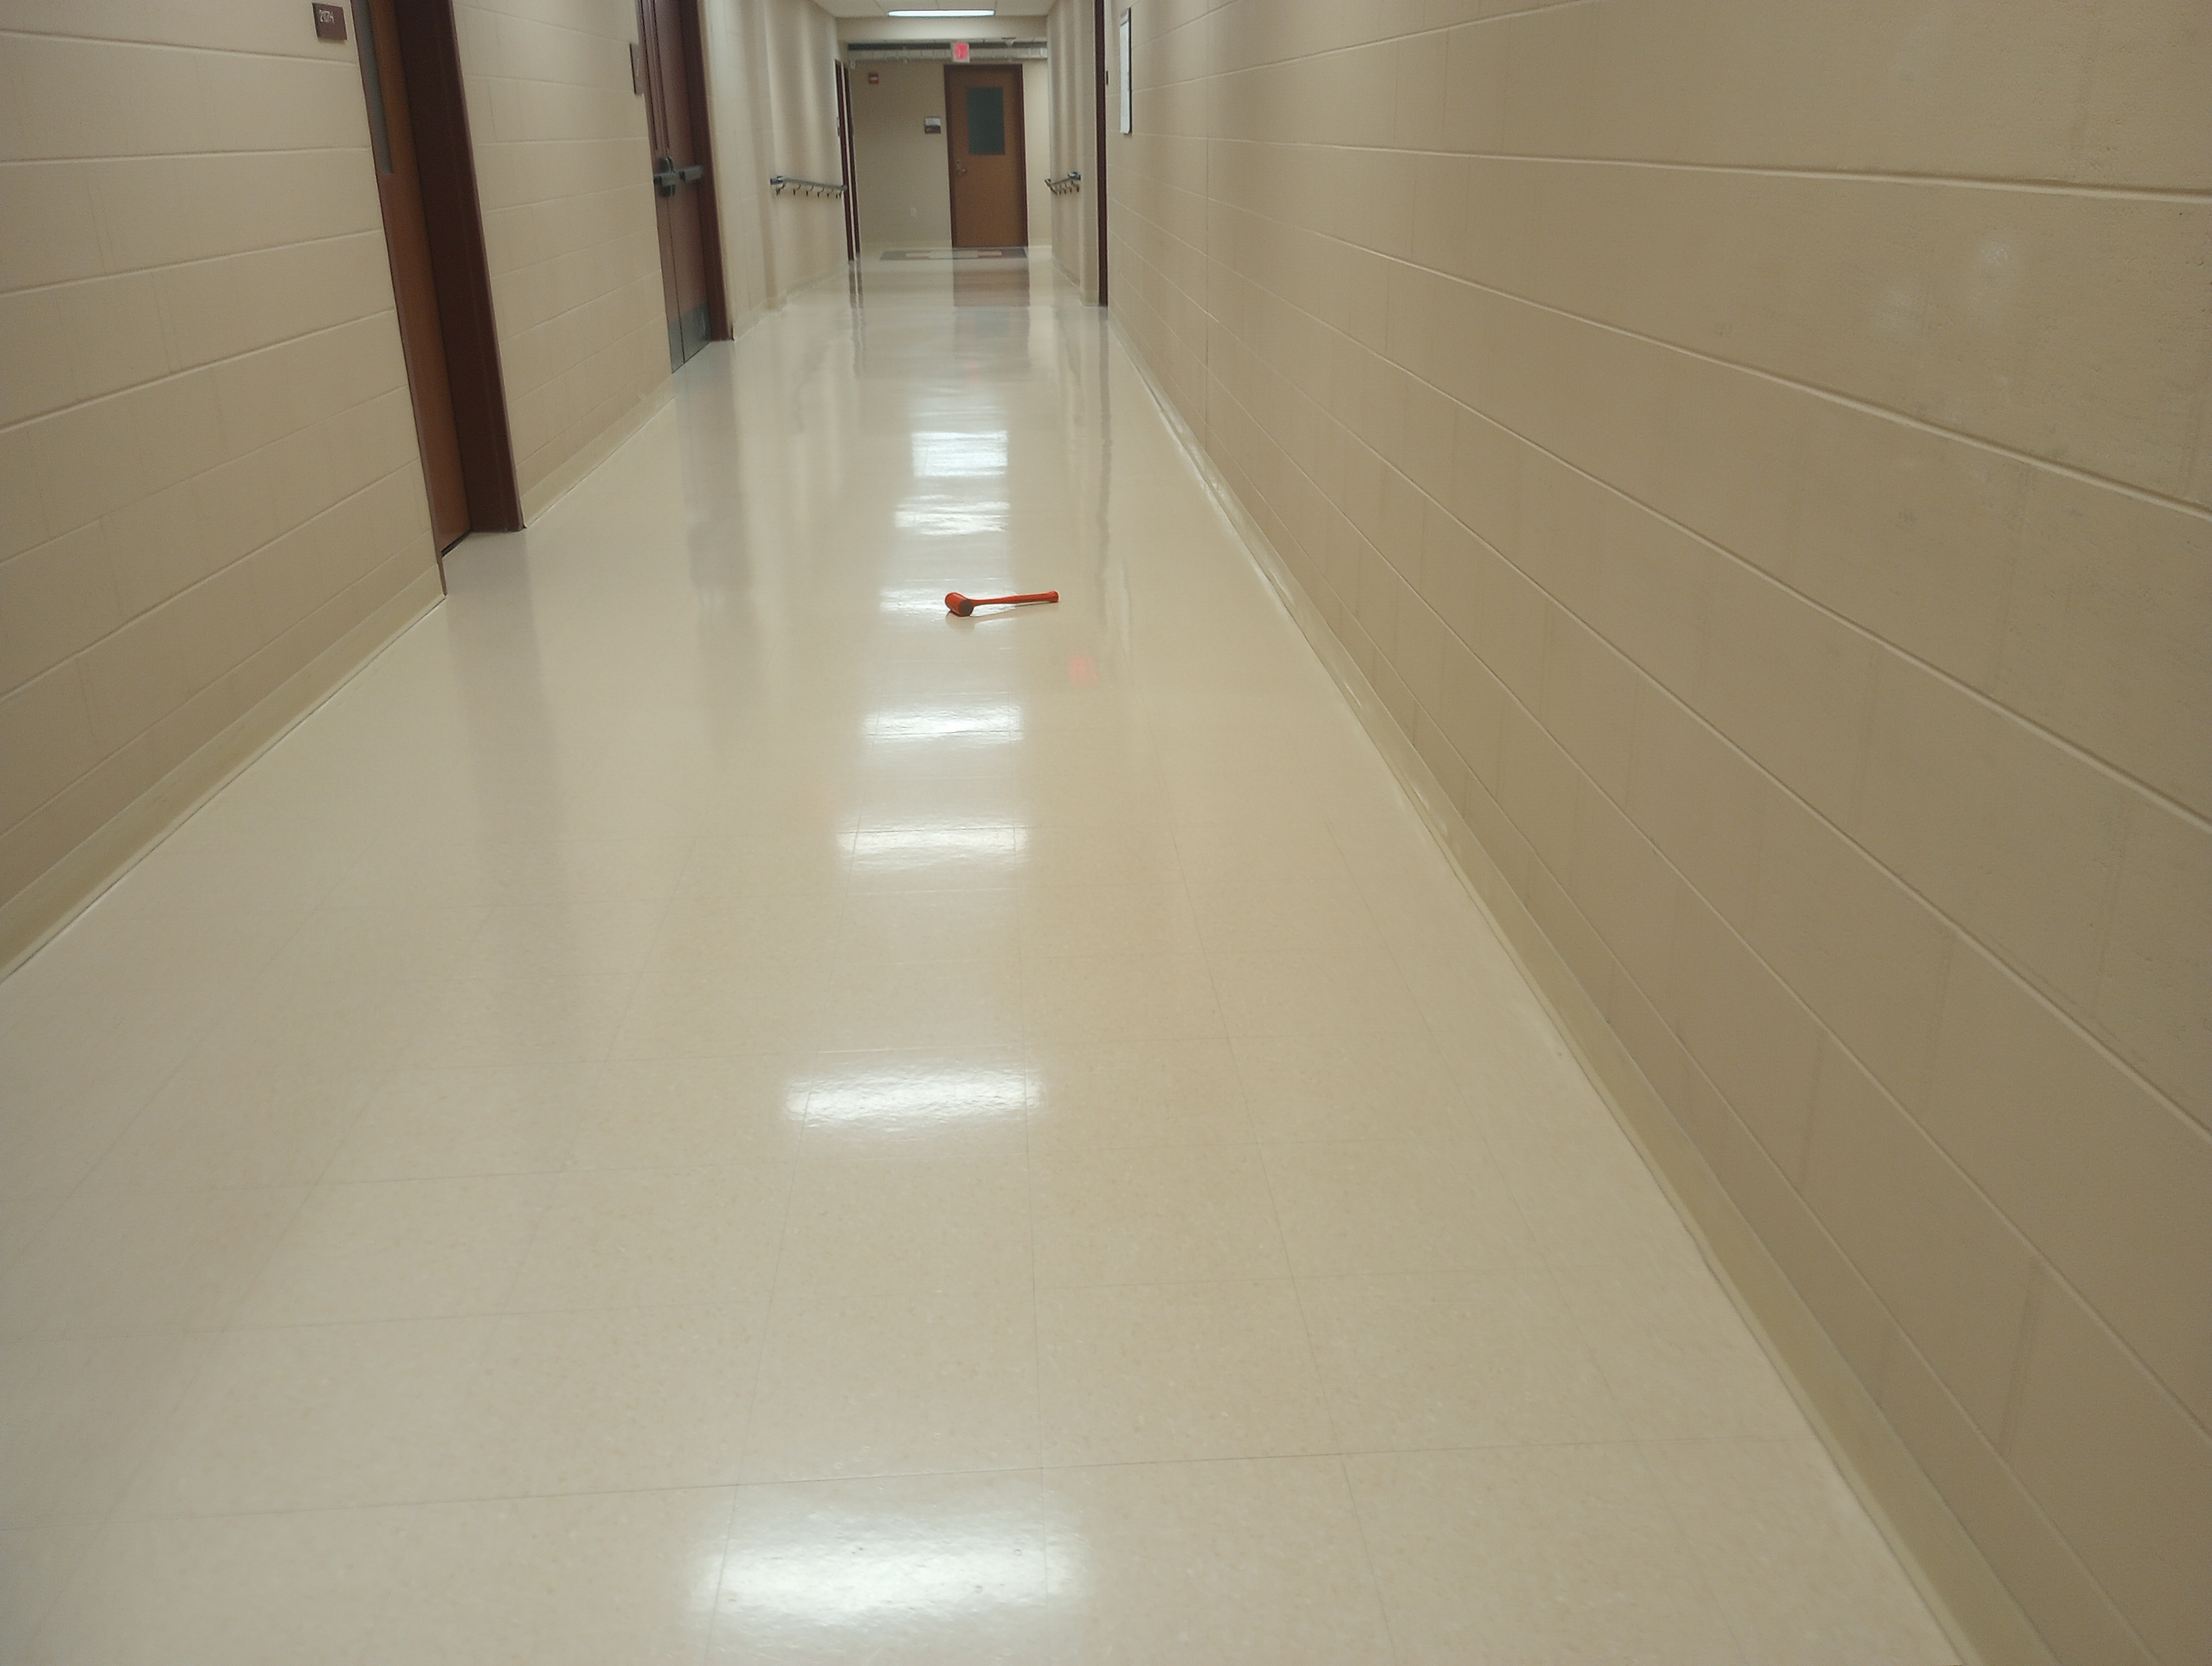bottle: (939, 585, 1063, 623)
